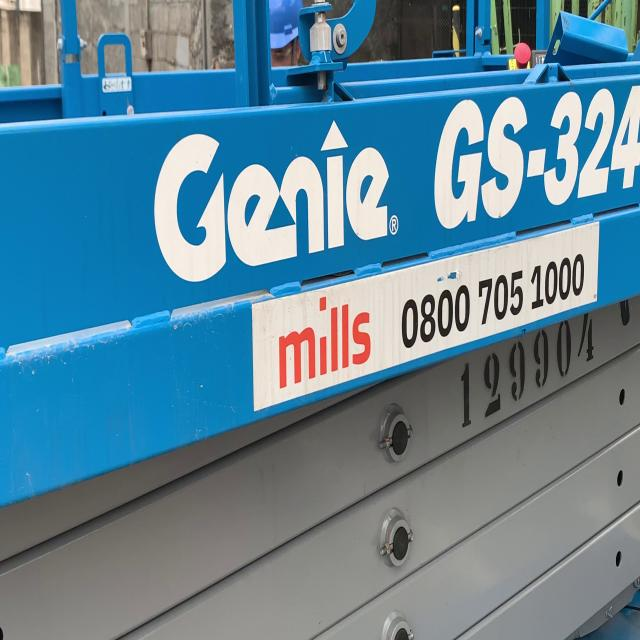Adesivo Longo: (248, 217, 602, 417)
